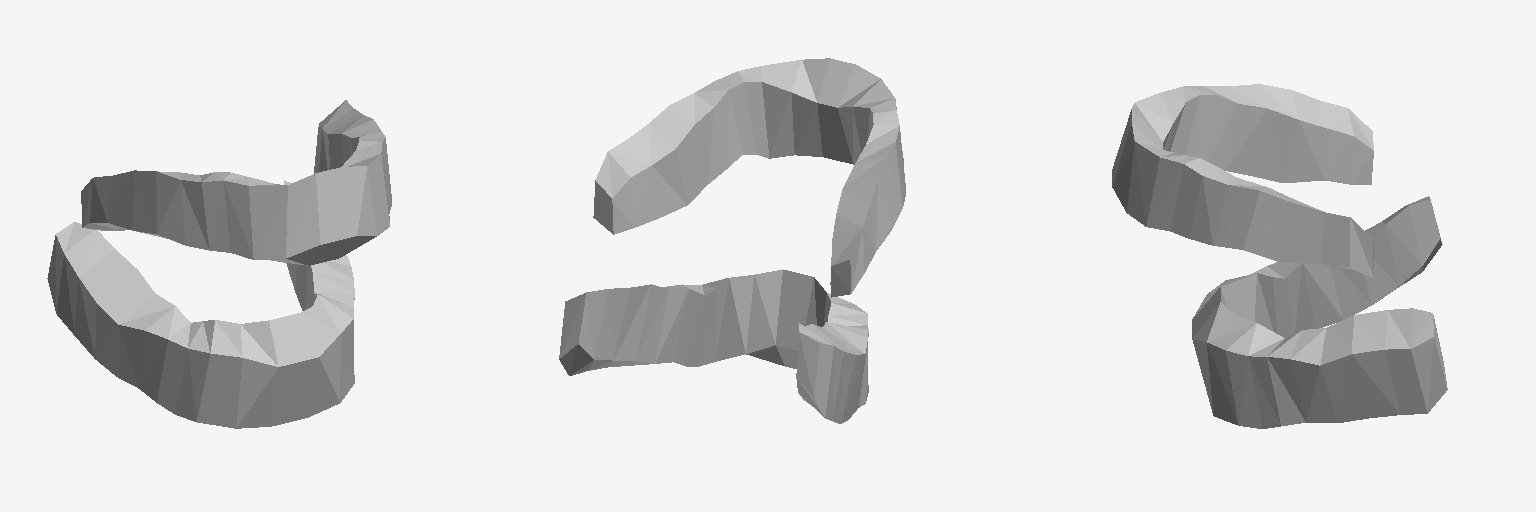
The model's file is Mouth.OBJ.
The picture shows the model from 3 angles: view 1: azimuth 30°, elevation 25°; view 2: azimuth 150°, elevation 25°; view 3: azimuth 270°, elevation 25°; orthographic projection.
Visible parts, largest first — view 1: Group3301, Group3316; view 2: Group3316, Group3301; view 3: Group3301, Group3316.
Part boxes in pixels (x1,y1,x2,y2): Group3301: (47, 180, 354, 428); Group3316: (81, 100, 391, 265); Group3316: (593, 58, 905, 297); Group3301: (559, 269, 868, 423); Group3301: (1192, 196, 1447, 428); Group3316: (1112, 84, 1373, 277).
Size of the model in its own units: 0.3443 by 0.3521 by 0.3809.